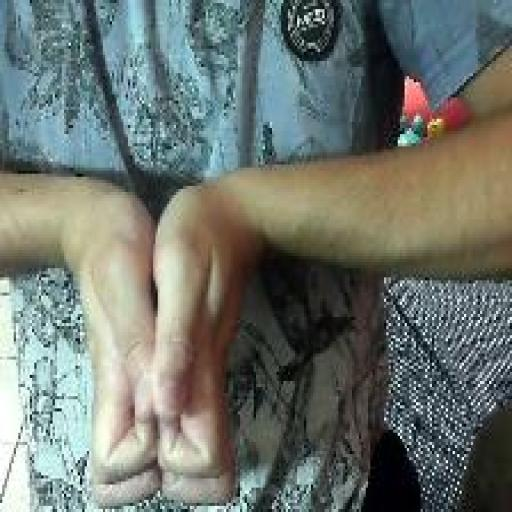I -boar-: (73, 176, 240, 510)
